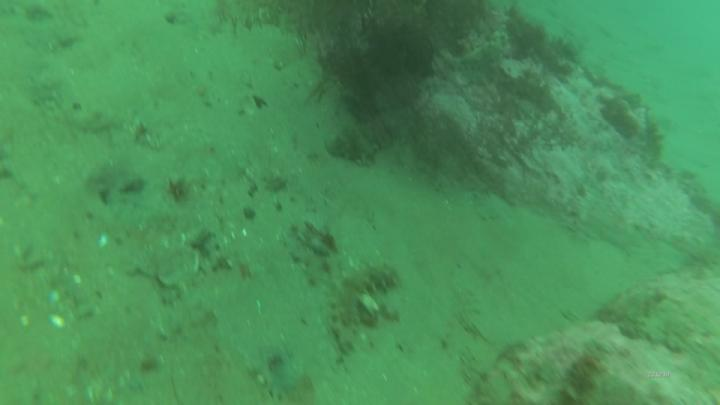holothurian: (329, 255, 401, 352)
waterweeds: (216, 1, 492, 126)
